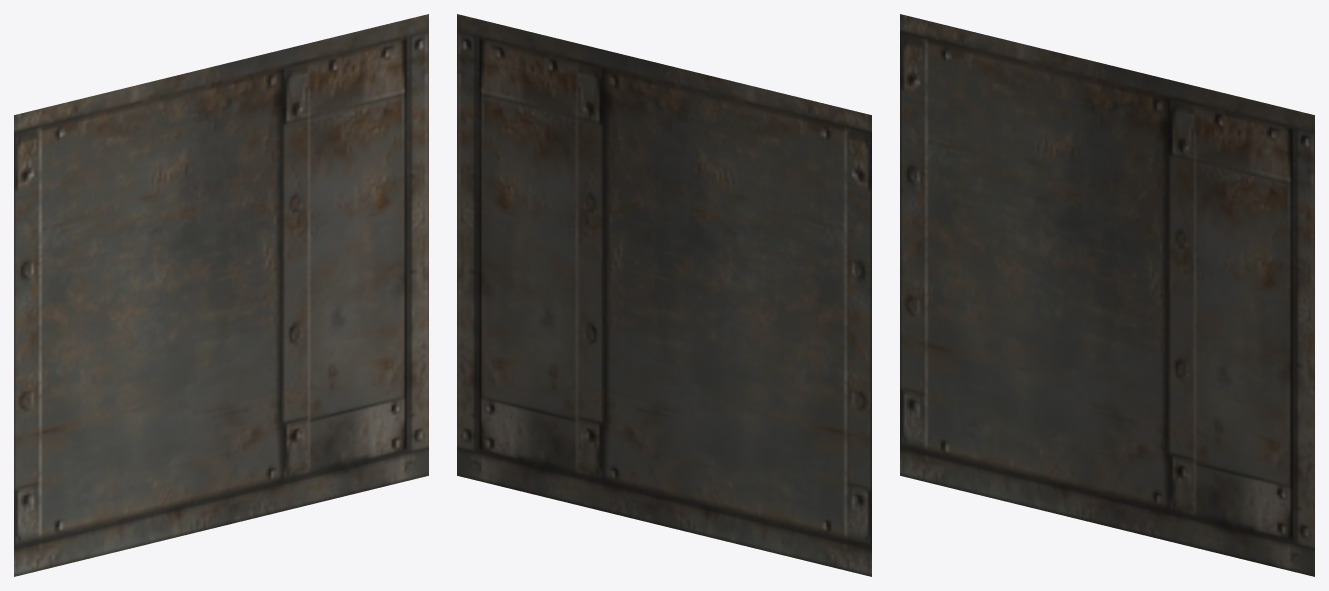
Rendered from wall_001.glb.
3 renders of one model, left to right at view 1: azimuth 30°, elevation 25°; view 2: azimuth 150°, elevation 25°; view 3: azimuth 330°, elevation 25°, orthographic.
Parts seen in each view (by area): view 1: Building_12_048; view 2: Building_12_048; view 3: Building_12_048.
Boxes of the visible parts, x1,y1,x2,y2 form: Building_12_048: (14, 14, 428, 576); Building_12_048: (457, 14, 871, 576); Building_12_048: (900, 14, 1314, 576).
Size of the model in its own units: 1.88 by 2 by 6.2e-06.
1 material, 1 textured.
